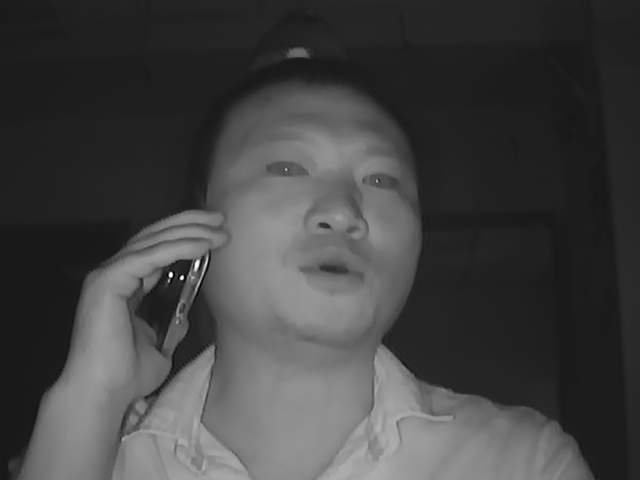hand: (59, 207, 225, 398)
